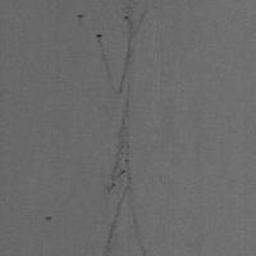Water spot: (96, 12, 150, 256)
